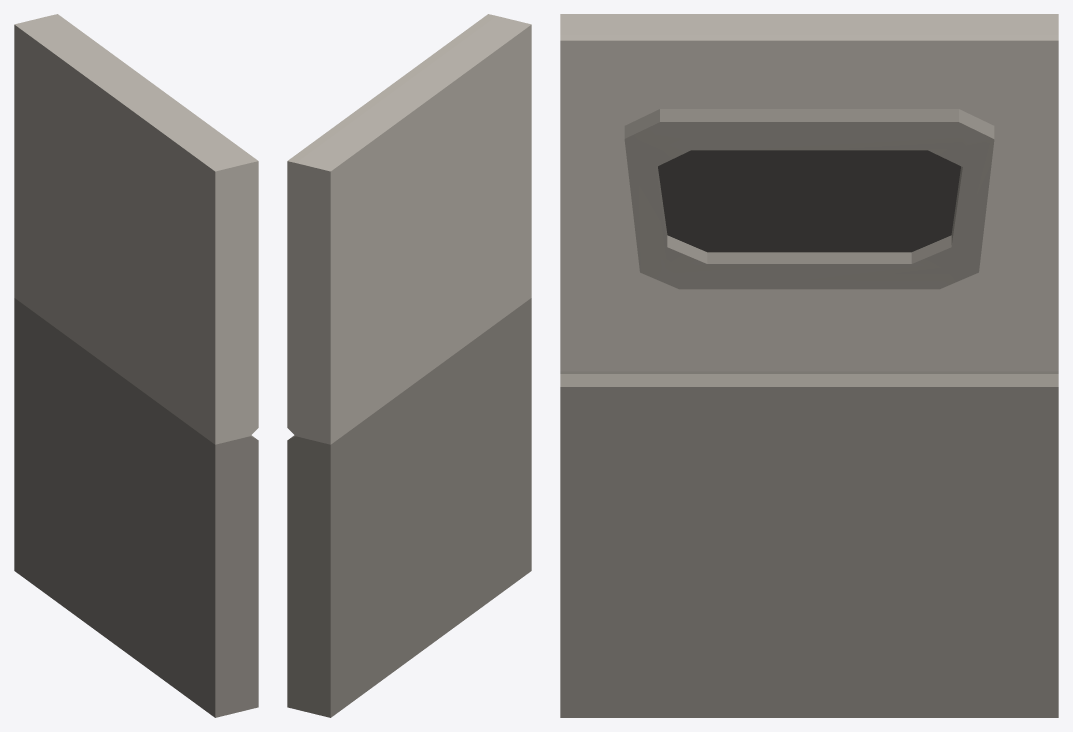
Rendered from Wall_Window.glb.
3 views of the same model, side by side, from view 1: azimuth 30°, elevation 25°; view 2: azimuth 150°, elevation 25°; view 3: azimuth 270°, elevation 25° (orthographic). The views are drawn at different scales.
Visible parts, largest first — view 1: Wall_Window; view 2: Wall_Window; view 3: Wall_Window.
Part boxes in pixels (bbox=[...]): Wall_Window: bbox=[14, 14, 258, 717]; Wall_Window: bbox=[287, 14, 531, 717]; Wall_Window: bbox=[560, 14, 1058, 717].
Bounding box in the file's own units: 0.5684 × 4.5 × 3.
Materials: 1 (1 with a texture image).
